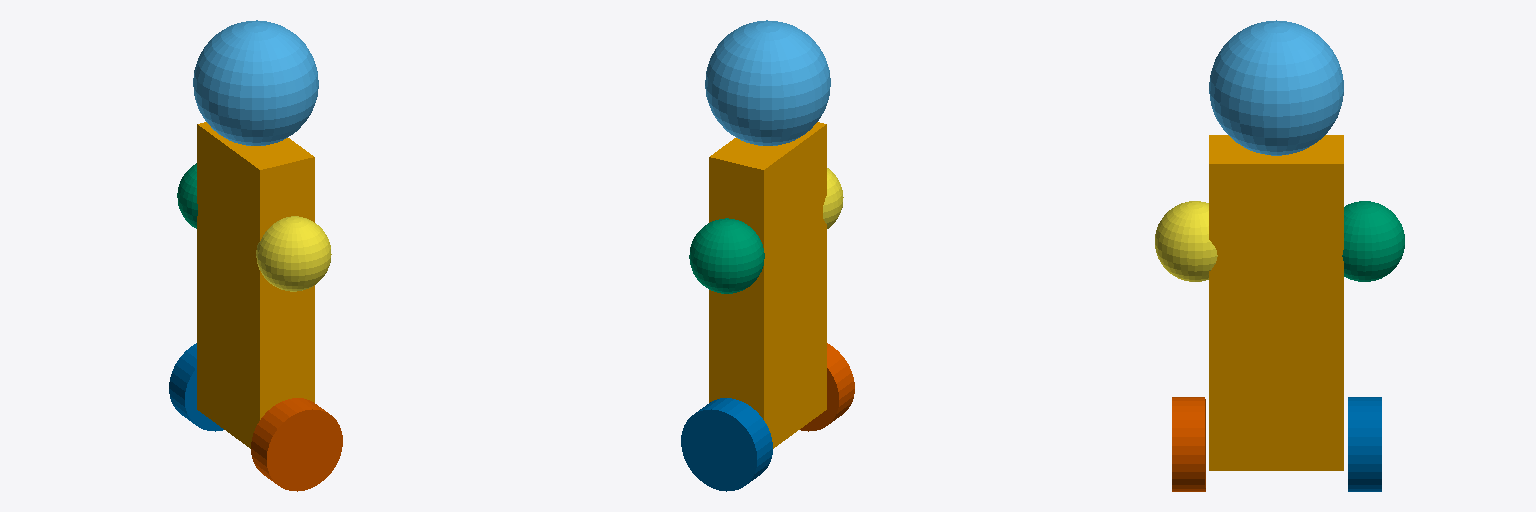
URDF robot description (human_urdf):
<?xml version = "1.0"?>

<robot name="human_urdf">



    <link name="body">
     <collision>
        <origin xyz = "0 0 0.3" rpy = "0 0 0"/>
        <geometry>
            <box size = "0.1 0.2 0.5"/>
        </geometry>
     </collision>
    
     <visual>
        <origin xyz = "0 0 0.3" rpy = "0 0 0"/>
        <geometry>
            <box size = "0.1 0.2 0.5"/>
        </geometry>
     </visual>    
    
    <inertial>
        <!--origin xyz = "0 0 1" rpy = "0 0 0"/-->
        <mass value = "1"/>
        <inertia
            ixx = "1.0" ixy = "0.0" ixz = "0.0"
            iyy = "1.0" iyz = "0.0"
            izz = "1.0"/>
    </inertial>   
    </link>
    

    <link name="head">
     <collision>
        <origin xyz = "0 0 0.65" rpy = "0 0 0"/>
        <geometry>
            <sphere radius = "0.1"/>
        </geometry>
     </collision>
    
     <visual>
        <origin xyz = "0 0 0.65" rpy = "0 0 0"/>
        <geometry>
            <sphere radius = "0.1"/>
        </geometry>
     </visual>    
    
    <inertial>
        <!--origin xyz = "0 0 1" rpy = "0 0 0"/-->
        <mass value = "1"/>
        <inertia
            ixx = "1.0" ixy = "0.0" ixz = "0.0"
            iyy = "1.0" iyz = "0.0"
            izz = "1.0"/>
    </inertial>   
    </link>


   <joint name = "head_to_body" type = "fixed">
     <parent link = "body"/>
     <child link = "head"/>
   </joint>





    <link name="left_arm">

     <collision>
        <origin xyz = "0 0.13 0.4" rpy = "0 0 0"/>
        <geometry>
            <sphere radius = "0.06"/>
        </geometry>
     </collision>
    
     <visual>
        <origin xyz = "0 0.13 0.4" rpy = "0 0 0"/>
        <geometry>
            <sphere radius = "0.06"/>
        </geometry>
     </visual>    
    
    <inertial>
        <!--origin xyz = "0 0 1" rpy = "0 0 0"/-->
        <mass value = "0.2"/>
        <inertia
            ixx = "1.0" ixy = "0.0" ixz = "0.0"
            iyy = "1.0" iyz = "0.0"
            izz = "1.0"/>
    </inertial>   
    </link>

   <joint name = "left_arm_to_body" type = "fixed">
     <parent link = "body"/>
     <child link = "left_arm"/>
   </joint>




    <link name="right_arm">
     <collision>
        <origin xyz = "0 -0.13 0.4" rpy = "0 0 0"/>
        <geometry>
            <sphere radius = "0.06"/>
        </geometry>
     </collision>
    
     <visual>
        <origin xyz = "0 -0.12 0.4" rpy = "0 0 0"/>
        <geometry>
            <sphere radius = "0.06"/>
        </geometry>
     </visual>    
    
    <inertial>
        <!--origin xyz = "0 0 1" rpy = "0 0 0"/-->
        <mass value = "0.2"/>
        <inertia
            ixx = "1.0" ixy = "0.0" ixz = "0.0"
            iyy = "1.0" iyz = "0.0"
            izz = "1.0"/>
    </inertial>   
    </link>
   
   <joint name = "right_arm_to_body" type = "fixed">
     <parent link = "body"/>
     <child link = "right_arm"/>
   </joint>    



    <link name="left_wheel">

        <visual>
          <geometry>
            <cylinder length = "0.05" radius = "0.07"/>
          </geometry>
          <origin xyz = "0 0.13 0.07" rpy = "0 1.5707 1.5707"/> 
        </visual>

        <collision>
          <geometry>
            <cylinder length = "0.05" radius = "0.07"/>
          </geometry>
          <origin xyz = "0 0.13 0.07" rpy = "0 1.5707 1.5707"/> 
        </collision>

    	<inertial>
        <!--origin xyz = "0 0 1" rpy = "0 0 0"/-->
        <mass value = "1.0"/>
        <inertia
            ixx = "1.0" ixy = "0.0" ixz = "0.0"
            iyy = "1.0" iyz = "0.0"
            izz = "1.0"/>
    	</inertial>
    </link>


   <joint name = "left_wheel_to_body" type = "fixed">
     <parent link = "body"/>
     <child link = "left_wheel"/>
   </joint>


    <link name="right_wheel">

        <visual>
          <geometry>
            <cylinder length = "0.05" radius = "0.07"/>
          </geometry>
          <origin xyz = "0 -0.13 0.07" rpy = "0 1.5707 1.5707"/> 
        </visual>

        <collision>
          <geometry>
            <cylinder length = "0.05" radius = "0.07"/>
          </geometry>
          <origin xyz = "0 -0.13 0.07" rpy = "0 1.5707 1.5707"/> 
        </collision>

    	<inertial>
        <!--origin xyz = "0 0 1" rpy = "0 0 0"/-->
        <mass value = "1.0"/>
        <inertia
            ixx = "1.0" ixy = "0.0" ixz = "0.0"
            iyy = "1.0" iyz = "0.0"
            izz = "1.0"/>
    	</inertial>
    </link>

   <joint name = "right_wheel_to_body" type = "fixed">
     <parent link = "body"/>
     <child link = "right_wheel"/>
   </joint>


 <!-- <gazebo>
    <plugin name="object_controller" filename="libgazebo_ros_planar_move.so">
      <commandTopic>cmd_vel</commandTopic>
      <odometryTopic>odom</odometryTopic>
      <odometryFrame>odom</odometryFrame>
      <odometryRate>20.0</odometryRate>
      <robotBaseFrame>base_footprint</robotBaseFrame>
    </plugin>
  </gazebo>
-->



</robot>
  

--- What the picture shows (computed from the rendered views, not written in the file) ---
Views: 3 orthographic renders of the robot side by side, from view 1: azimuth 30°, elevation 25°; view 2: azimuth 150°, elevation 25°; view 3: azimuth 270°, elevation 25°.
Robot: human_urdf — 6 links, 5 joints (5 fixed); root link body; default pose: all joints at 0.
Links seen in each view (by area): view 1: body, head, right_wheel, right_arm, left_wheel, left_arm; view 2: body, head, left_wheel, left_arm, right_wheel, right_arm; view 3: body, head, left_arm, right_arm, left_wheel, right_wheel.
Link boxes in pixels (x1,y1,x2,y2): body: (197,122,314,448); head: (193,20,318,145); right_wheel: (251,398,342,491); right_arm: (256,216,331,291); left_wheel: (169,343,223,431); left_arm: (177,163,197,228); body: (709,122,826,448); head: (705,20,830,145); left_wheel: (681,398,772,491); left_arm: (689,218,764,293); right_wheel: (800,343,854,431); right_arm: (823,168,843,228); body: (1209,135,1343,470); head: (1209,20,1343,155); left_arm: (1342,201,1404,281); right_arm: (1155,201,1217,281); left_wheel: (1348,397,1381,491); right_wheel: (1172,397,1205,491).
Bounding box of the posed robot: 0.2 × 0.37 × 0.75 m (x, y, z).
Geometry: primitives only (box / cylinder / sphere), no mesh files.